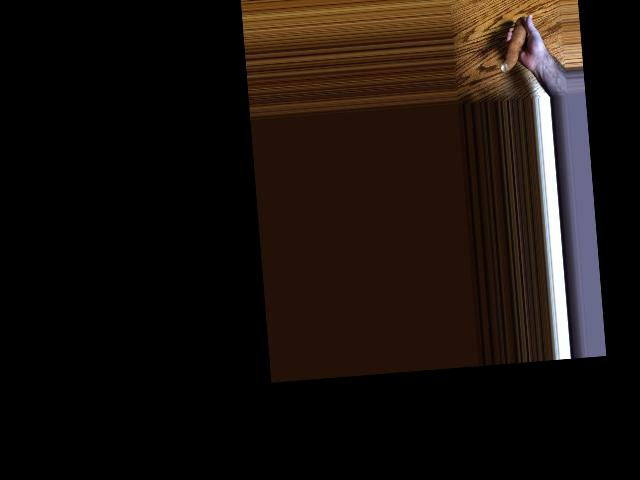sweet_potato: (497, 18, 530, 74)
